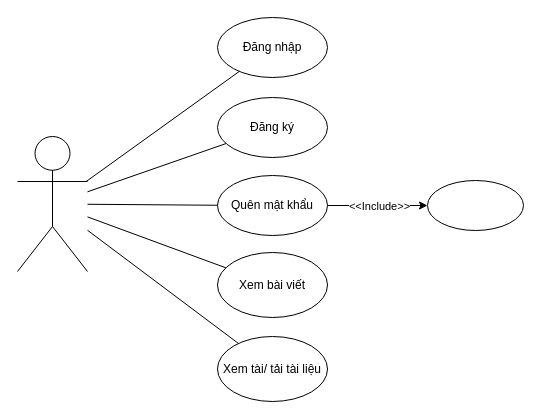
Some shapes in this 541 by 419 pixel diagram are drawn without their labels. The shapes that lost their labels are listed below. From the top down, each one's centre as x and y in pixels, then its label:
At (52,204): "Guest".
At (475,205): "Gửi OTP (email)".
